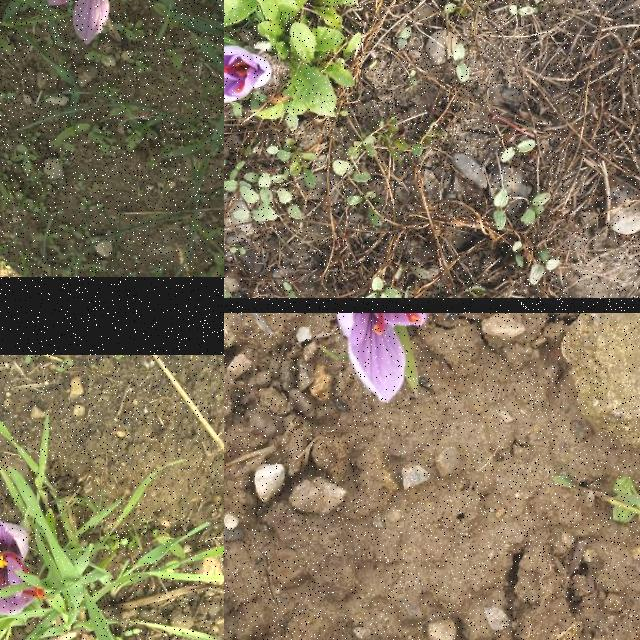flower: (331, 313, 427, 402), (19, 0, 131, 44), (0, 520, 46, 615), (224, 47, 271, 103)
